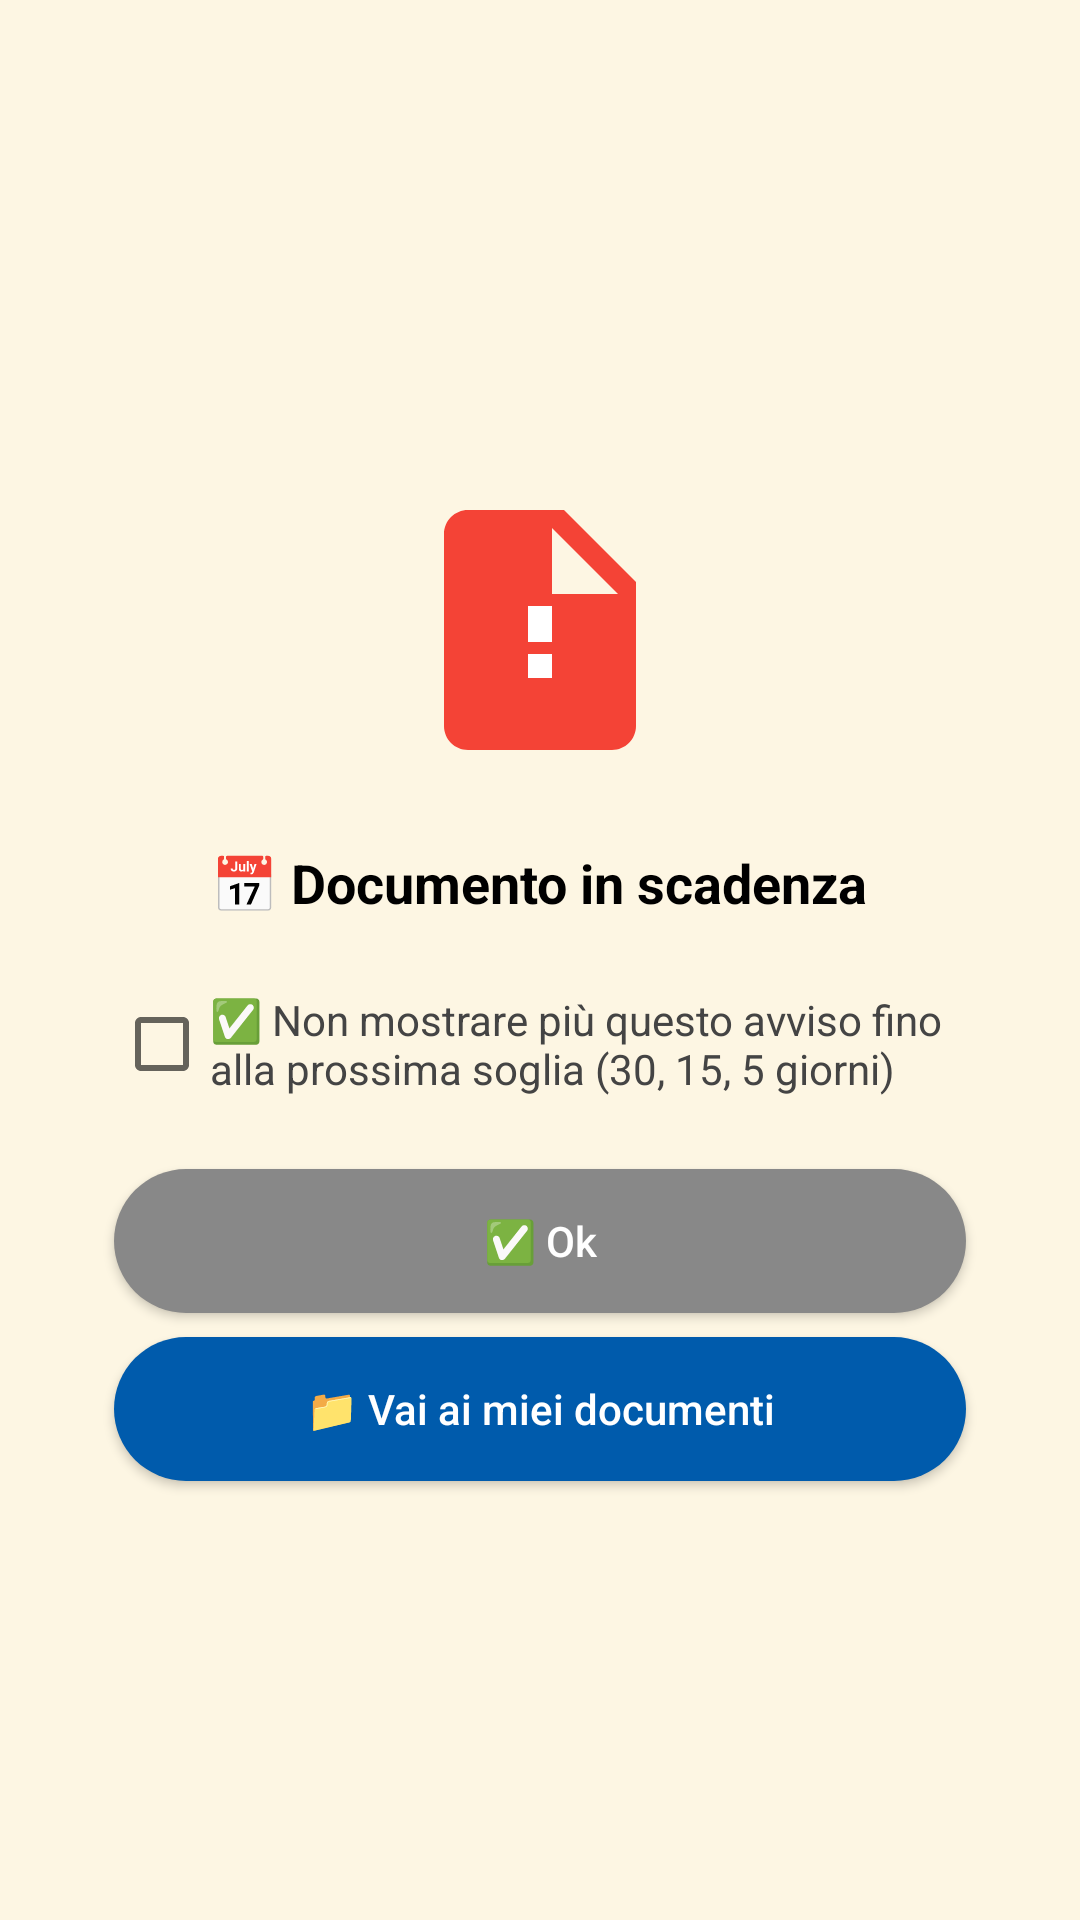

Screen size 1080×1920. Icon name, then its center in pixels as point (x, y):
document alert: point (540, 630)
